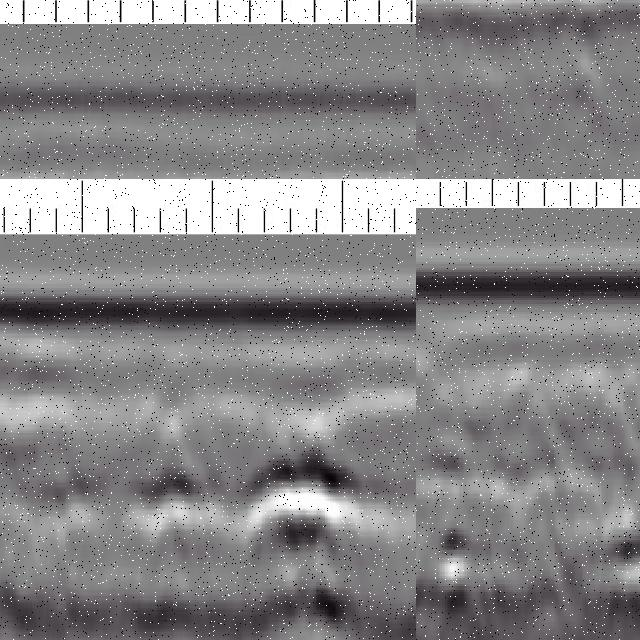loose: (112, 424, 355, 640), (417, 469, 493, 629)
